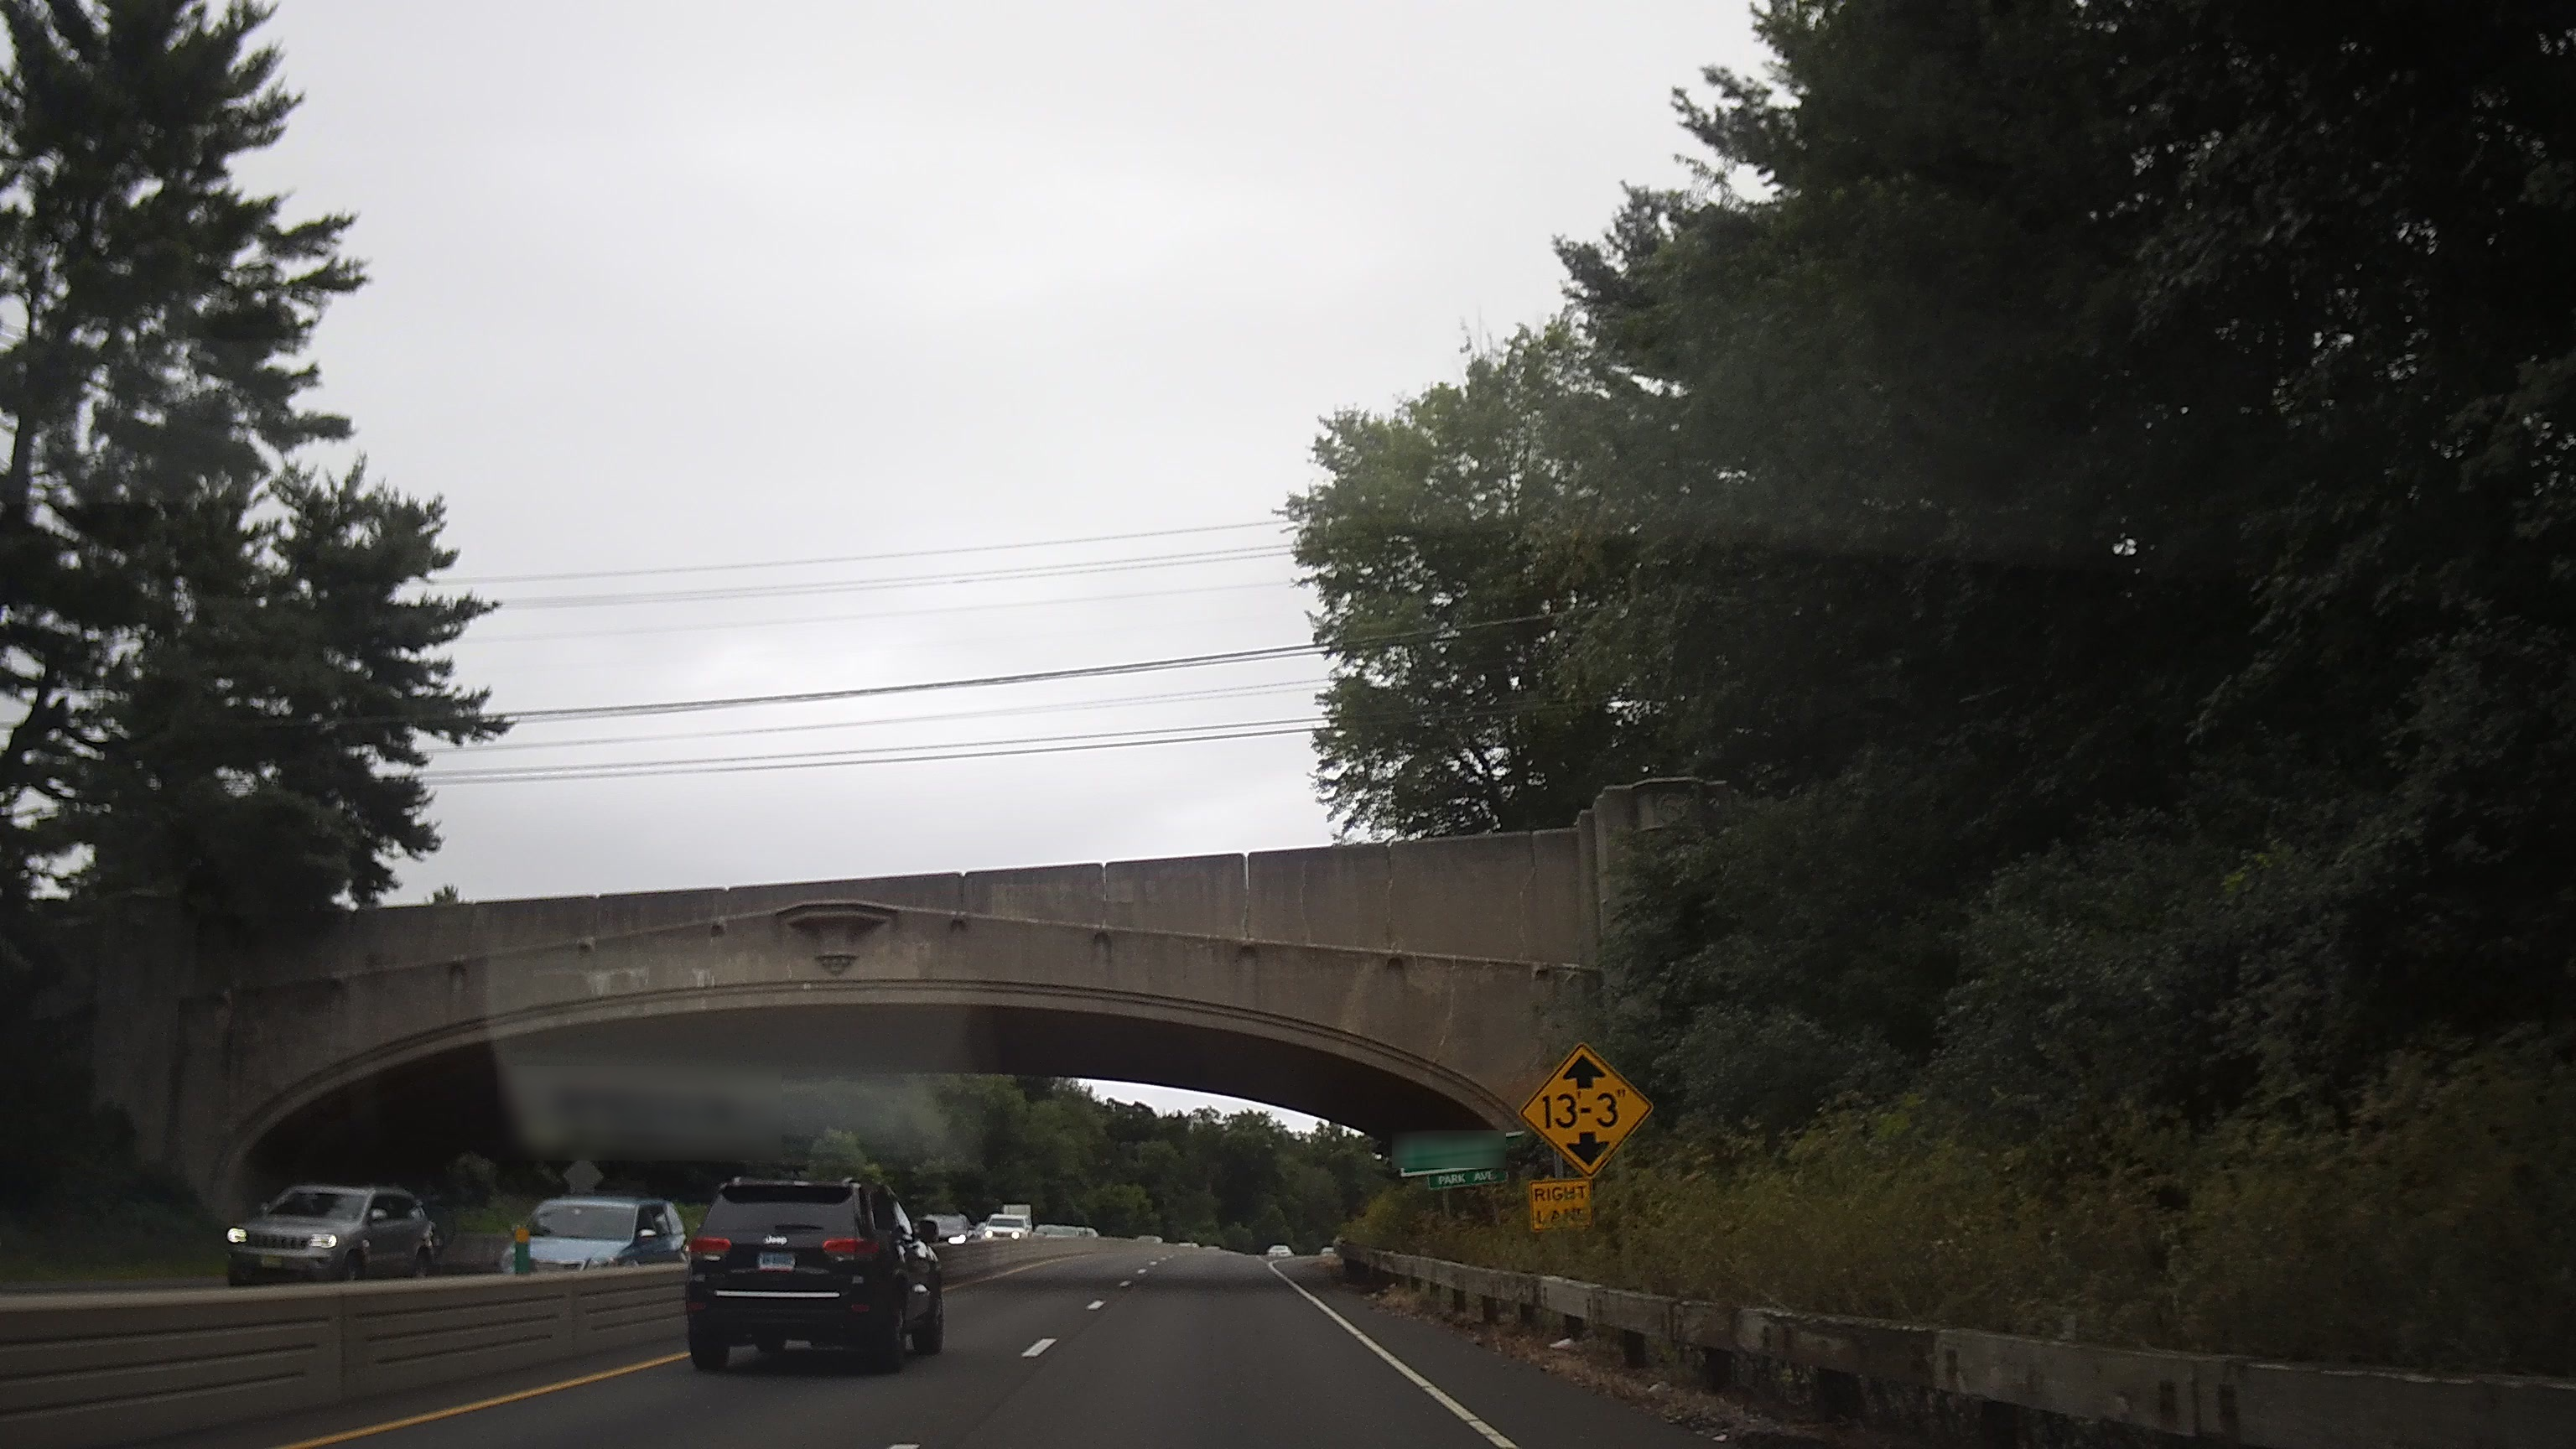low-clearance-sign: (1518, 1042, 1654, 1180)
